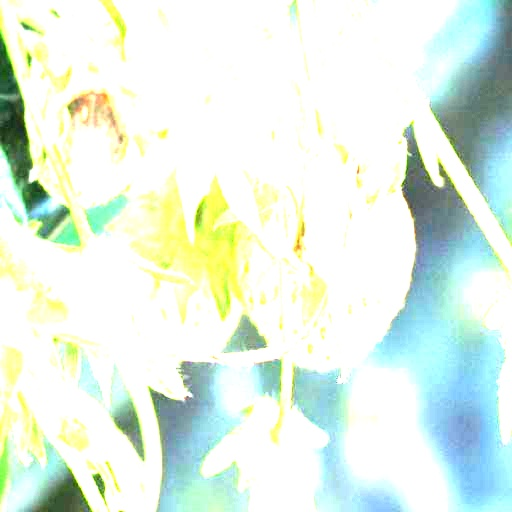Gray Mold: (45, 59, 144, 200), (280, 134, 368, 290)
